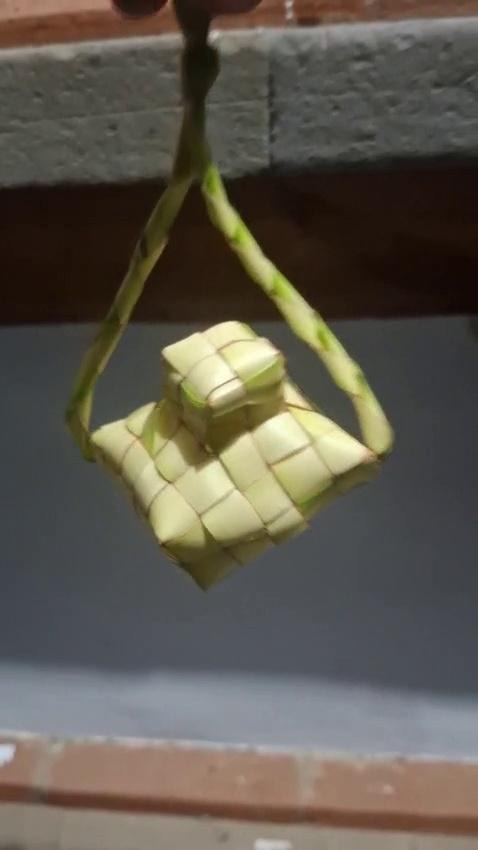Tipat Gong: (70, 1, 399, 593)
